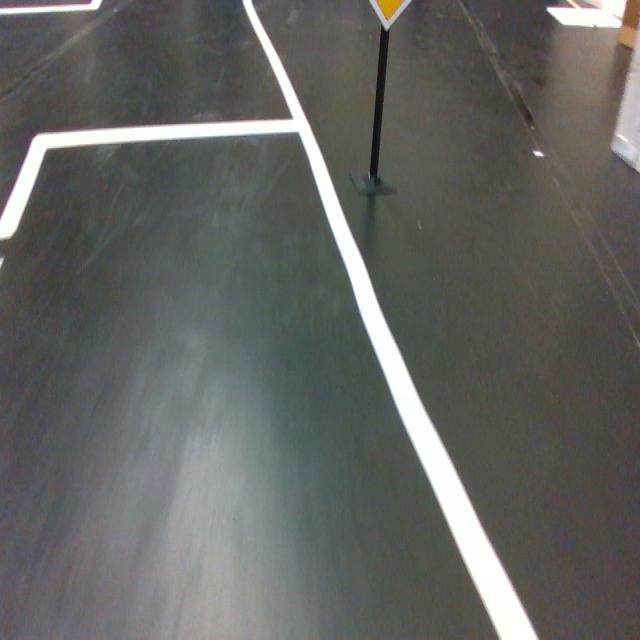priority-sign: (368, 0, 414, 32)
